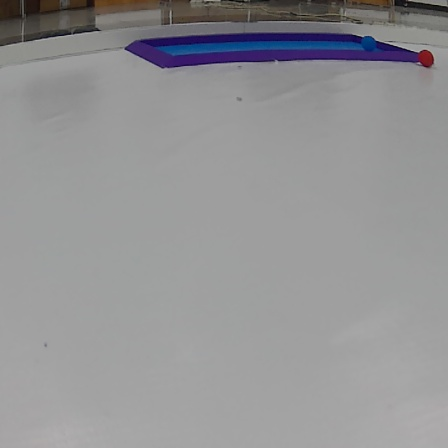blue: (360, 33, 377, 54)
blue_aim: (121, 30, 427, 71)
red: (417, 46, 437, 71)
